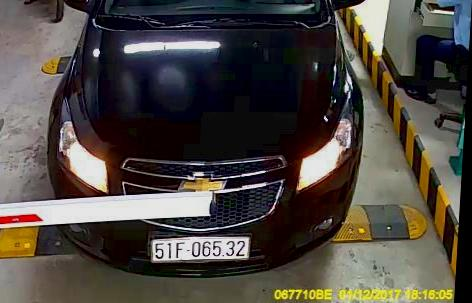License_Plate: (148, 233, 257, 264)
